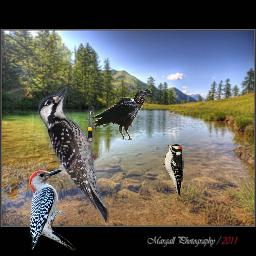Crow: (86, 89, 152, 140)
Woodpecker: (38, 87, 109, 223), (25, 166, 79, 256), (163, 144, 184, 197)
